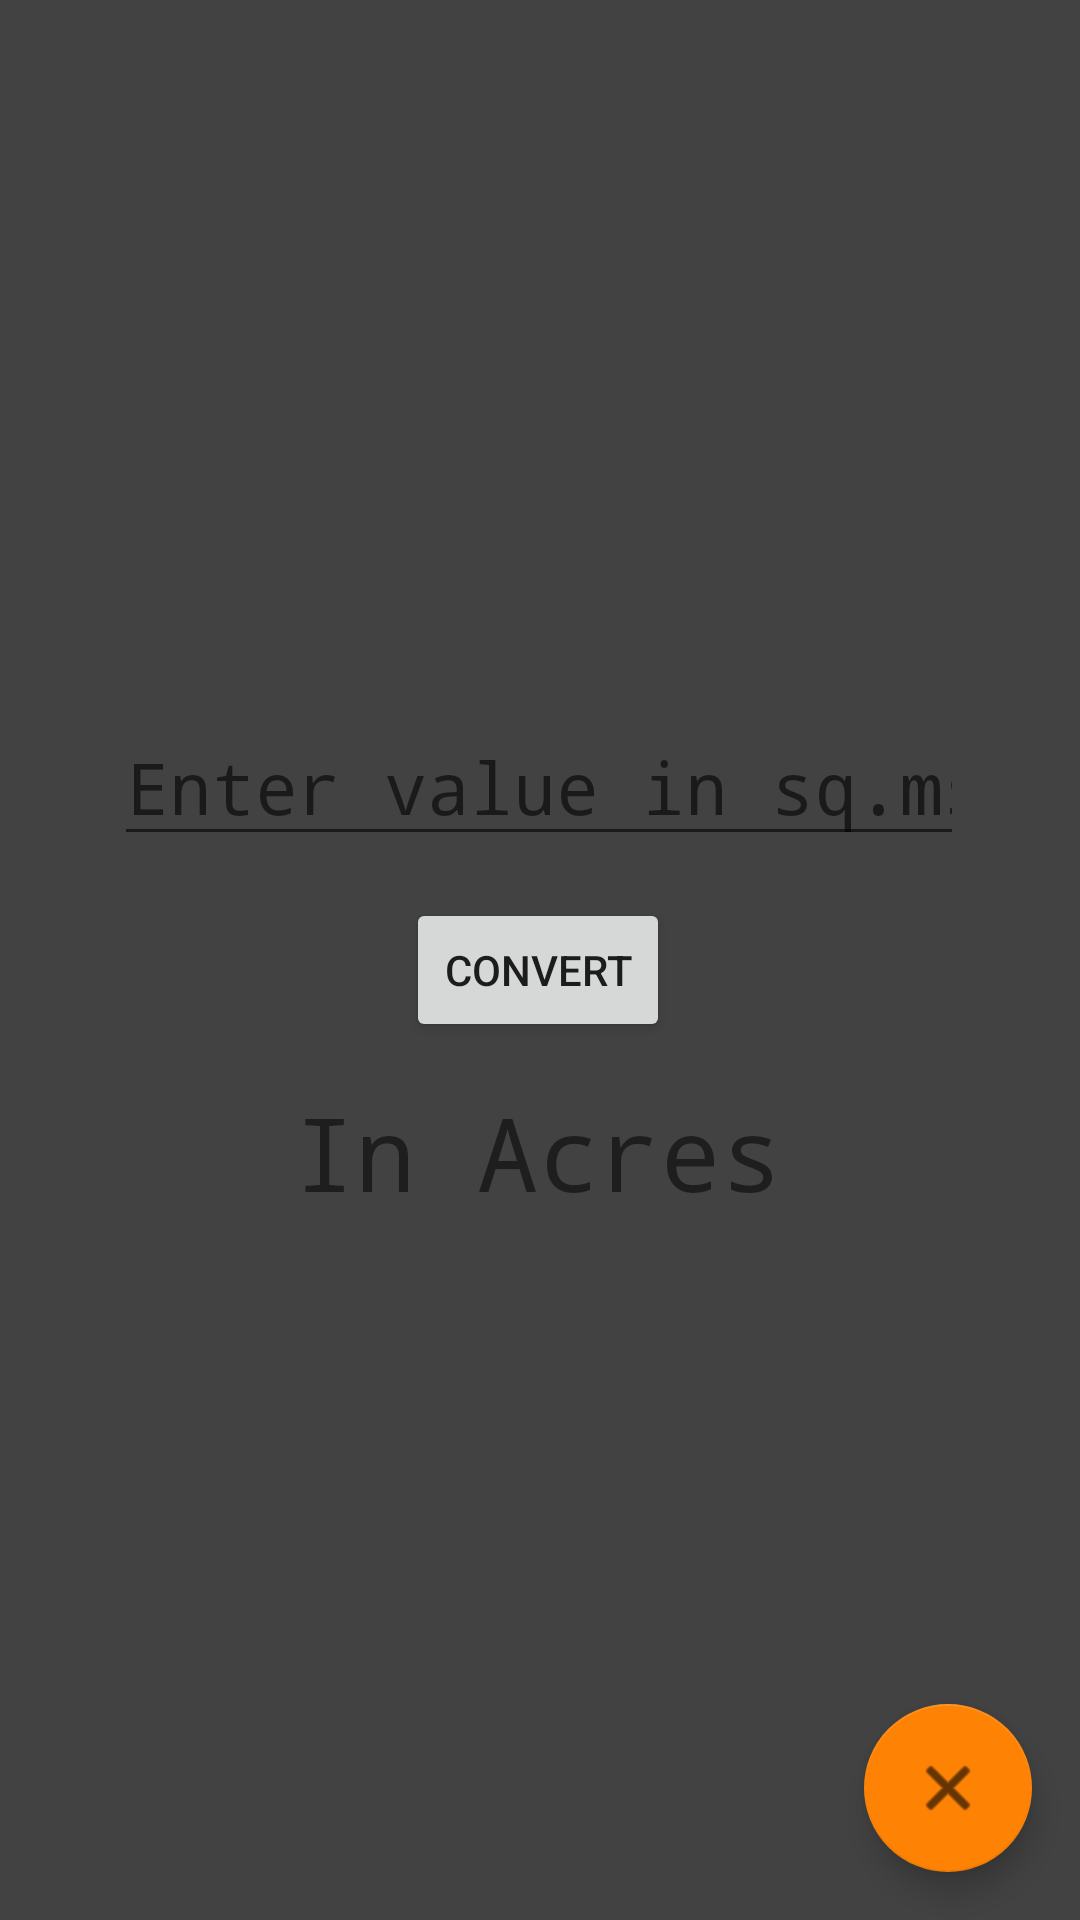

Icons on this 1080px×1920px Android screen, each with the point to tap as [x,y]:
close clear cancel: [948,1788]
